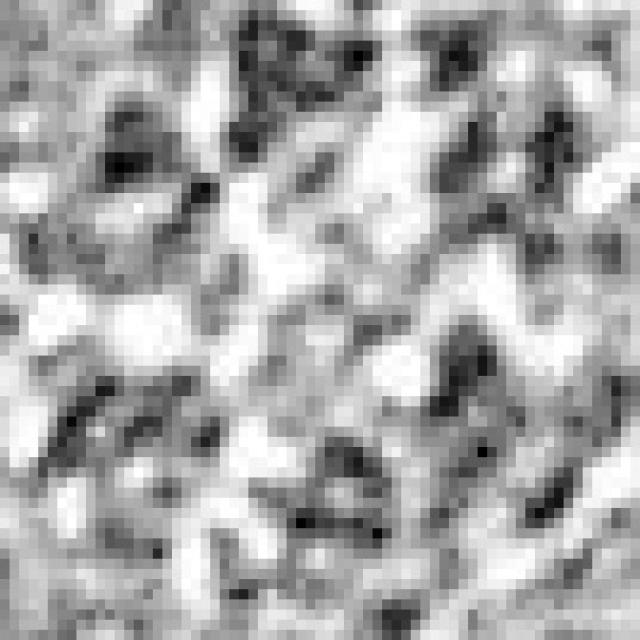inner: (193, 187, 456, 429)
lobe: (15, 97, 223, 294), (219, 427, 408, 598), (431, 320, 582, 533), (28, 357, 247, 502), (229, 10, 387, 198), (426, 81, 593, 245)
outer: (0, 0, 640, 640)
